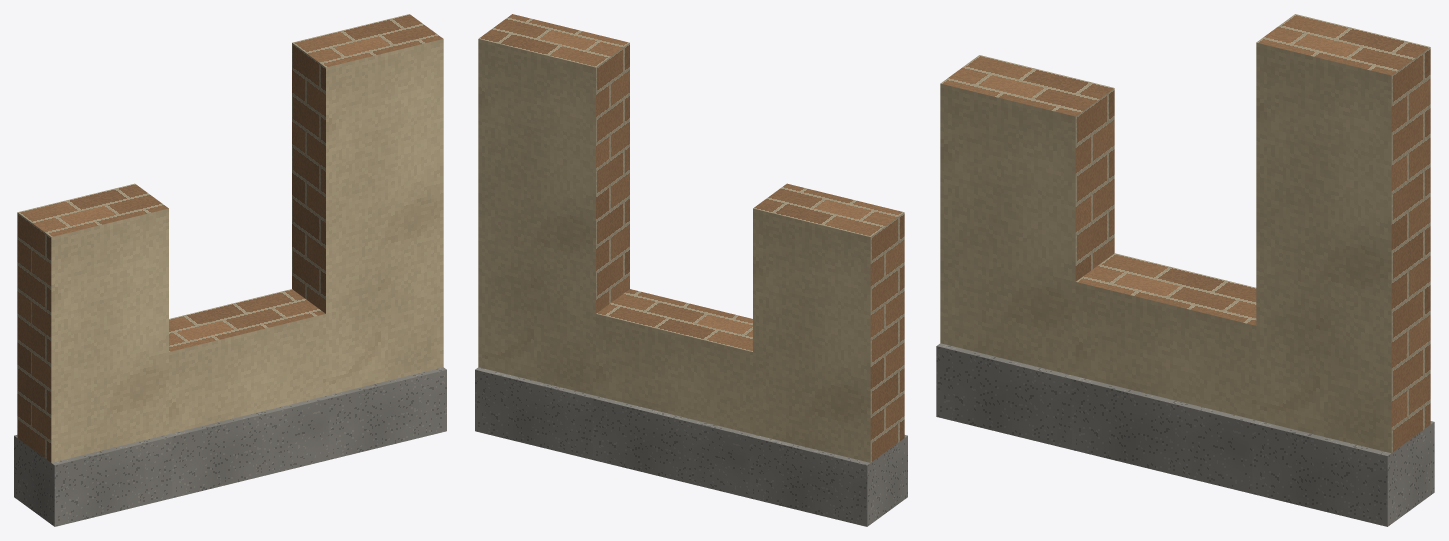
File: wall-broken-2m.glb
The picture shows the model from 3 angles, left to right: view 1: azimuth 30°, elevation 25°; view 2: azimuth 150°, elevation 25°; view 3: azimuth 330°, elevation 25°; orthographic projection. The views are drawn at different scales.
Visible parts, largest first — view 1: wall-broken-2m; view 2: wall-broken-2m; view 3: wall-broken-2m.
Boxes of the visible parts, box(x1,y1,x2,y2) form: wall-broken-2m: box(14, 14, 446, 526); wall-broken-2m: box(475, 14, 907, 526); wall-broken-2m: box(936, 14, 1434, 526).
Size of the model in its own units: 2 by 1.9 by 0.36.
1 material, 1 textured.
